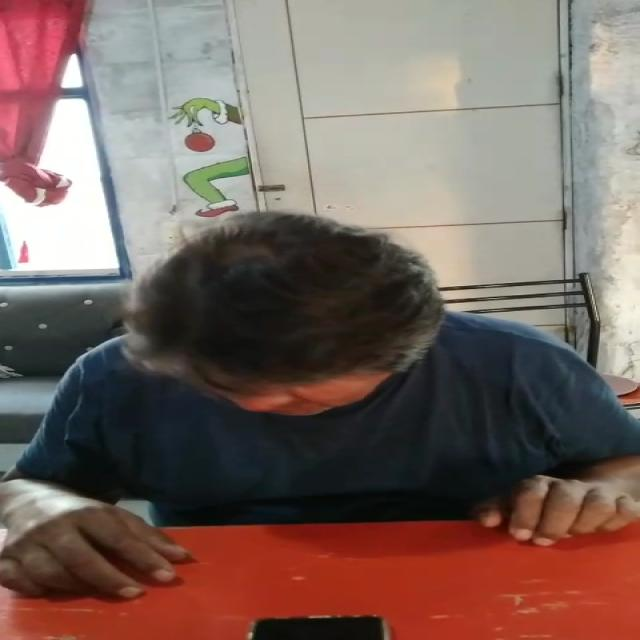9_cabeza_baja: (127, 212, 440, 416)
